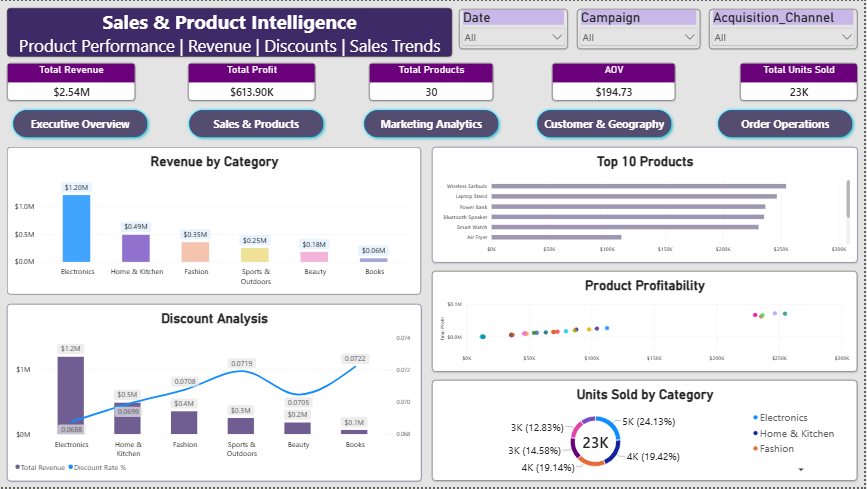

Layout of this report page (visuals, bound fields, positions):
{"tool":"powerbi","page":{"name":"02 Sales & Product Intelligence","canvas":[1920,1080],"ordinal":1},"visuals":[{"type":"textbox","box":[15.1,15.1,989.3,108],"z":0},{"type":"columnChart","title":"Revenue by Category","fields":{"Category":["ecommerce_analytics_dataset.Category"],"Y":["ecommerce_analytics_dataset.Total Revenue"]},"box":[15.1,324,920.2,328.3],"z":1},{"type":"clusteredBarChart","title":"Top 10 Products","fields":{"Category":["ecommerce_analytics_dataset.Product"],"Y":["ecommerce_analytics_dataset.Total Revenue"]},"box":[959,324,946.1,257],"z":2},{"type":"scatterChart","title":"Product Profitability","fields":{"Category":["ecommerce_analytics_dataset.Product"],"X":["ecommerce_analytics_dataset.Total Revenue"],"Y":["ecommerce_analytics_dataset.Total Profit"]},"box":[960,600.8,944.8,224.2],"z":3},{"type":"lineClusteredColumnComboChart","title":"Discount Analysis","fields":{"Category":["ecommerce_analytics_dataset.Category"],"Y":["ecommerce_analytics_dataset.Total Revenue"],"Y2":["ecommerce_analytics_dataset.Discount Rate %"]},"box":[15.2,672.7,920.8,394],"z":4},{"type":"donutChart","title":"Units Sold by Category","fields":{"Category":["ecommerce_analytics_dataset.Category"],"Y":["ecommerce_analytics_dataset.Total Units Sold"]},"box":[960,842.4,944.8,224.2],"z":5},{"type":"slicer","fields":{"Values":["DateTable.Date"]},"box":[1019.5,17.3,241.9,88.6],"z":6},{"type":"slicer","fields":{"Values":["ecommerce_analytics_dataset.Campaign"]},"box":[1283,17.3,274.3,88.6],"z":7},{"type":"slicer","fields":{"Values":["ecommerce_analytics_dataset.Acquisition_Channel"]},"box":[1574.6,17.3,330.5,88.6],"z":8},{"type":"cardVisual","title":"Total Revenue","fields":{"Data":["ecommerce_analytics_dataset.Total Revenue"]},"box":[15.1,138.2,285.1,84.2],"z":9},{"type":"cardVisual","title":"Total Profit","fields":{"Data":["ecommerce_analytics_dataset.Total Profit"]},"box":[416.9,138.2,283,84.2],"z":10},{"type":"cardVisual","title":"Total Products","fields":{"Data":["ecommerce_analytics_dataset.Total Products"]},"box":[820.8,138.2,276.5,84.2],"z":11},{"type":"cardVisual","title":"AOV","fields":{"Data":["ecommerce_analytics_dataset.Average Order Value"]},"box":[1226.9,138.2,274.3,84.2],"z":12},{"type":"cardVisual","title":"Total Units Sold","fields":{"Data":["ecommerce_analytics_dataset.Total Units Sold"]},"box":[1643.8,138.2,261.4,84.2],"z":13},{"type":"shape","box":[19.1,233.5,316.8,78.7],"z":14},{"type":"shape","box":[410.3,233.5,316.8,78.7],"z":15},{"type":"shape","box":[799.4,233.5,316.8,78.7],"z":16},{"type":"shape","box":[1184.2,233.5,316.8,78.7],"z":17},{"type":"shape","box":[1586,233.5,316.8,78.7],"z":18}]}

Visuals, with their boxes in screenshot pixels (x1, y1, x2, y2), scaled from the page's 1920x1080 canvas onto the 867x489 screenshot:
textbox: x1=7 y1=7 x2=454 y2=56
"Revenue by Category" columnChart: x1=7 y1=147 x2=422 y2=295
"Top 10 Products" clusteredBarChart: x1=433 y1=147 x2=860 y2=263
"Product Profitability" scatterChart: x1=434 y1=272 x2=860 y2=374
"Discount Analysis" lineClusteredColumnComboChart: x1=7 y1=305 x2=423 y2=483
"Units Sold by Category" donutChart: x1=434 y1=381 x2=860 y2=483
slicer - DateTable.Date: x1=460 y1=8 x2=570 y2=48
slicer - ecommerce_analytics_dataset.Campaign: x1=579 y1=8 x2=703 y2=48
slicer - ecommerce_analytics_dataset.Acquisition_Channel: x1=711 y1=8 x2=860 y2=48
"Total Revenue" cardVisual: x1=7 y1=63 x2=136 y2=101
"Total Profit" cardVisual: x1=188 y1=63 x2=316 y2=101
"Total Products" cardVisual: x1=371 y1=63 x2=495 y2=101
"AOV" cardVisual: x1=554 y1=63 x2=678 y2=101
"Total Units Sold" cardVisual: x1=742 y1=63 x2=860 y2=101
shape: x1=9 y1=106 x2=152 y2=141
shape: x1=185 y1=106 x2=328 y2=141
shape: x1=361 y1=106 x2=504 y2=141
shape: x1=535 y1=106 x2=678 y2=141
shape: x1=716 y1=106 x2=859 y2=141
